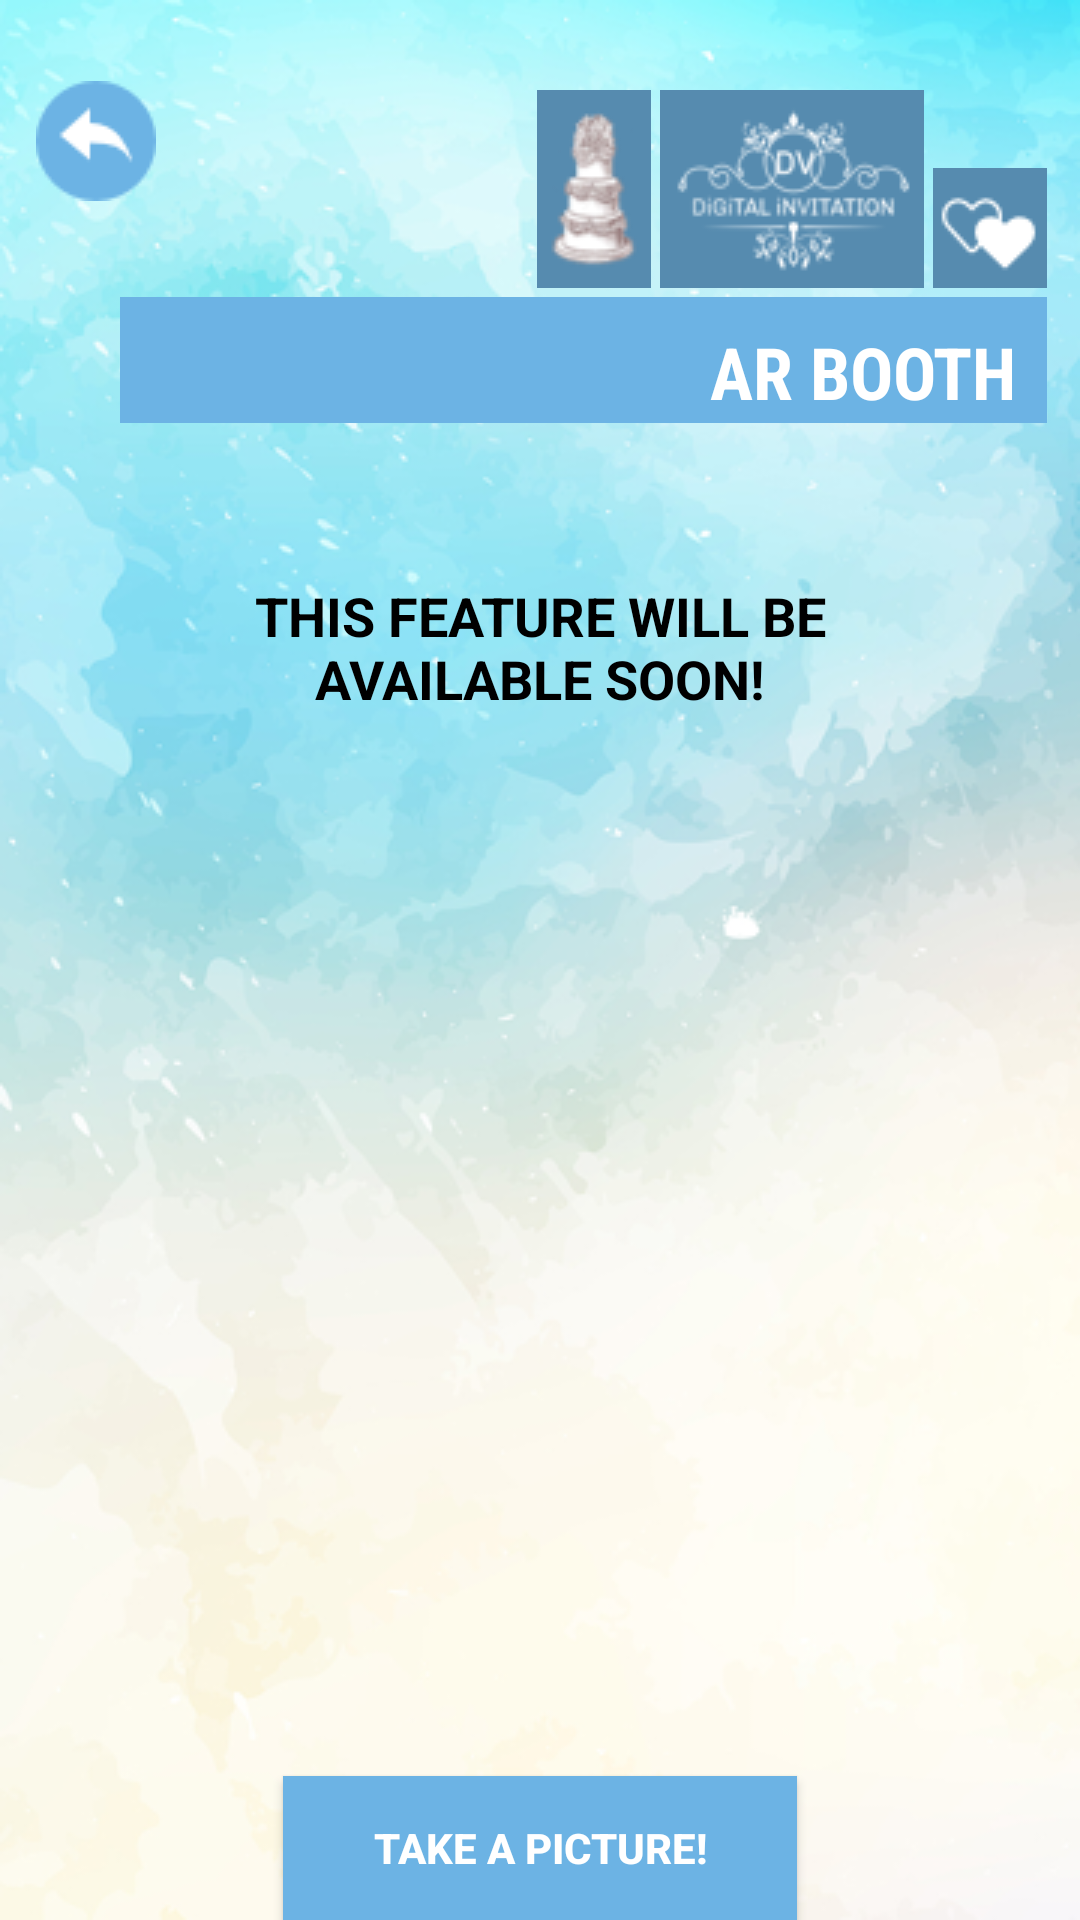

Icons on this 1080px×1920px Android screen, each with the point to tap as [x,y]:
back: [96,141]
cake: [594,189]
hearts: [990,228]
